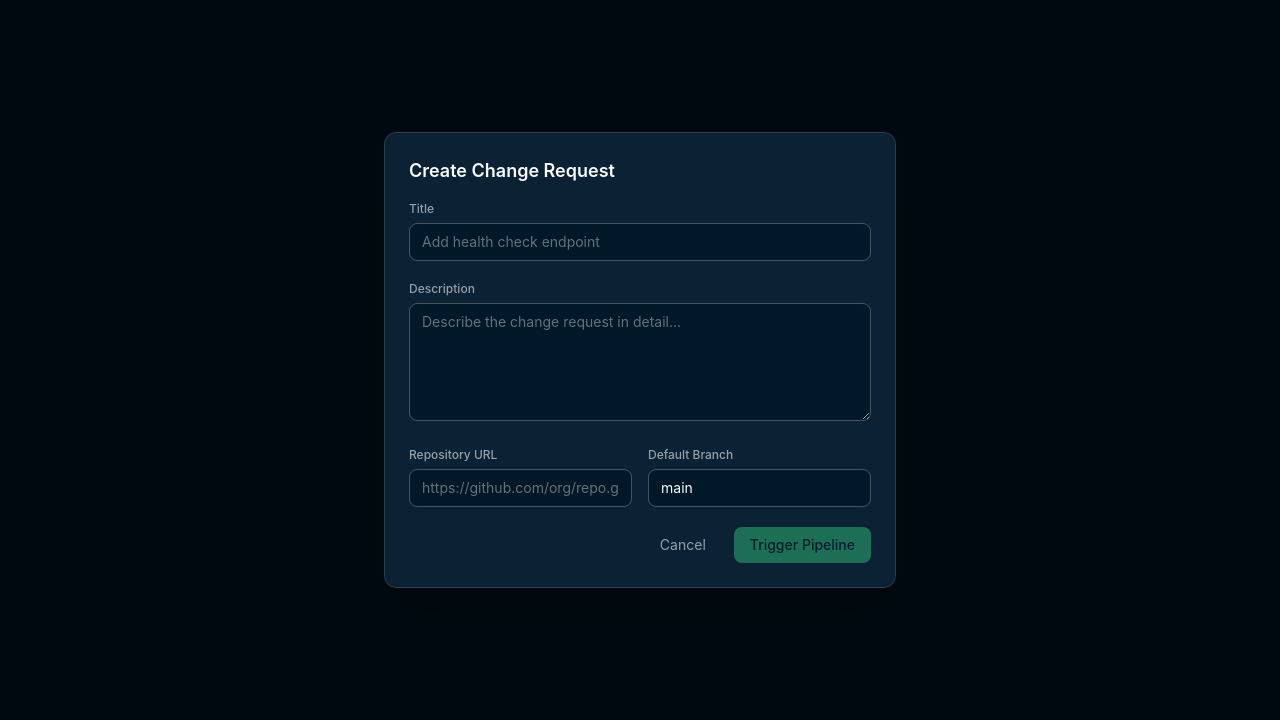
Test: CRCreationDialog › error message is displayed in an alert role element
The width and height of the screenshot is (1280, 720).
In the field with placeholder "Add health check endpoint": [640, 242] box left=409, top=223, right=871, bottom=261, type "My Feature"
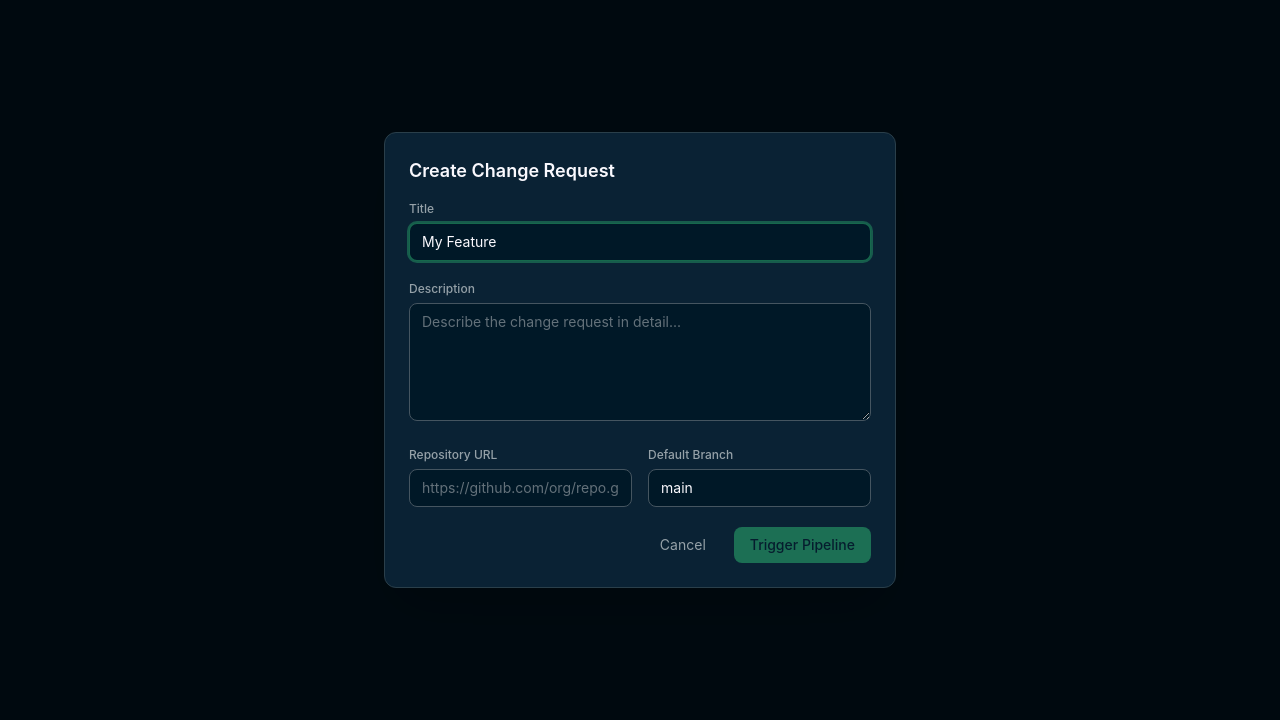
In the text box with placeholder "Describe the change request in detail...": [640, 362] box left=409, top=303, right=871, bottom=421, type "Details here"
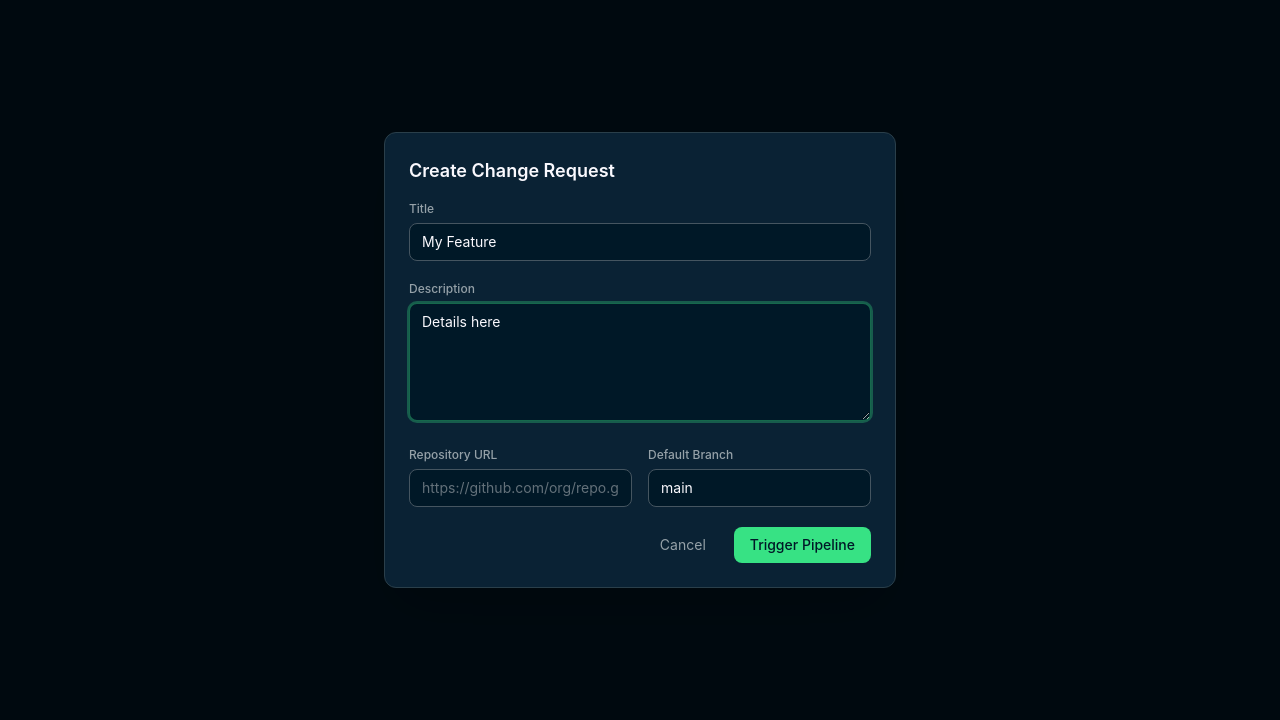
Click the button "Trigger Pipeline": [802, 545] box left=734, top=527, right=871, bottom=563
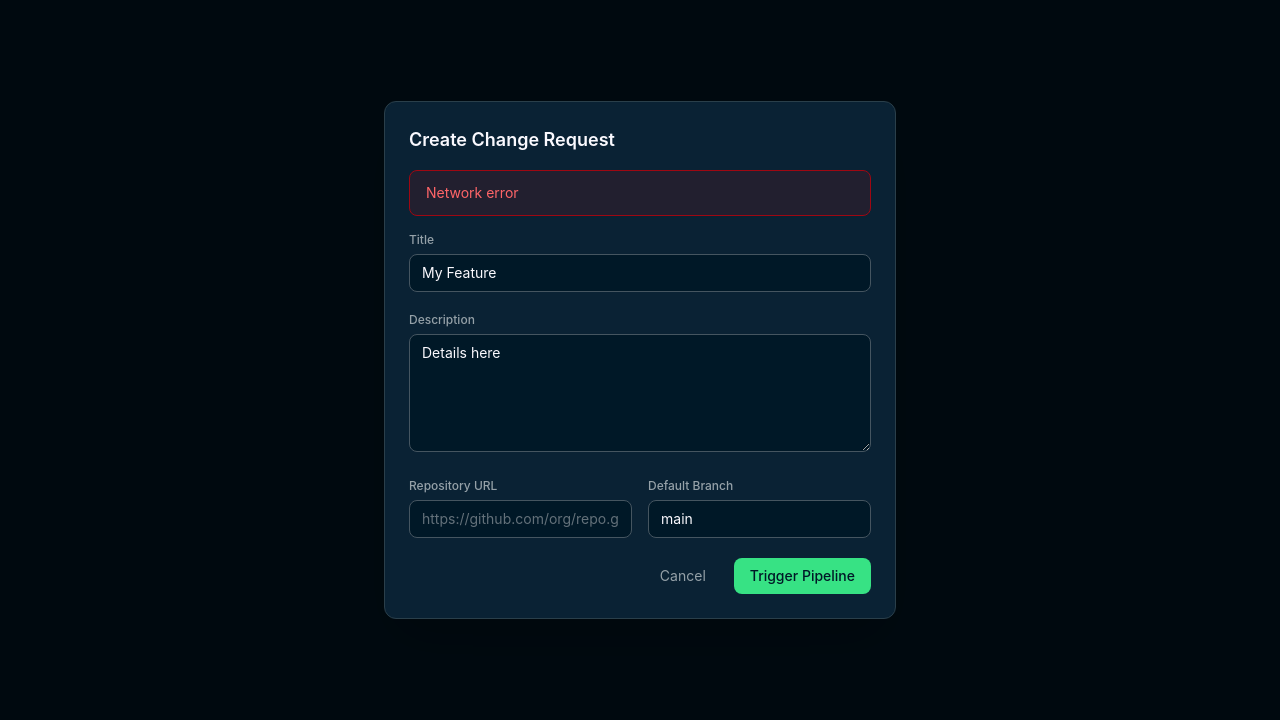
expect the message "Network error" is shown: met, box left=409, top=170, right=871, bottom=216
expect the message reads "Network error": met, box left=426, top=184, right=519, bottom=201
